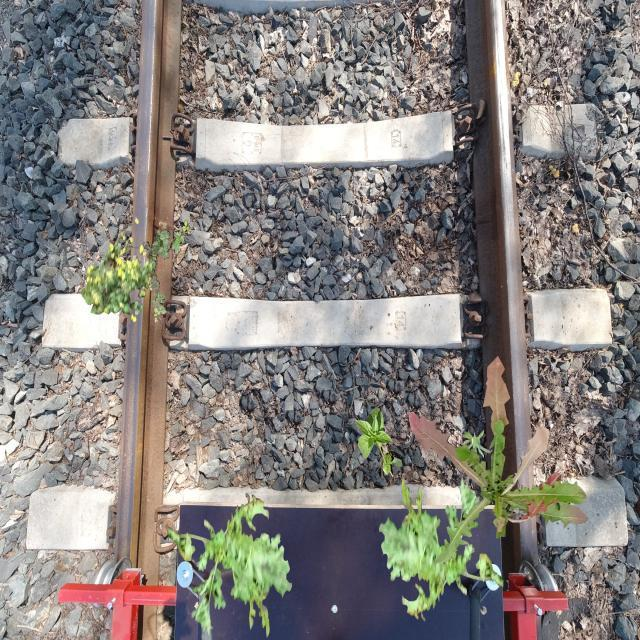Plant: (409, 356, 589, 564), (379, 475, 504, 622), (168, 493, 293, 640), (80, 218, 155, 323), (143, 220, 192, 324), (355, 407, 403, 478), (460, 429, 492, 464)
